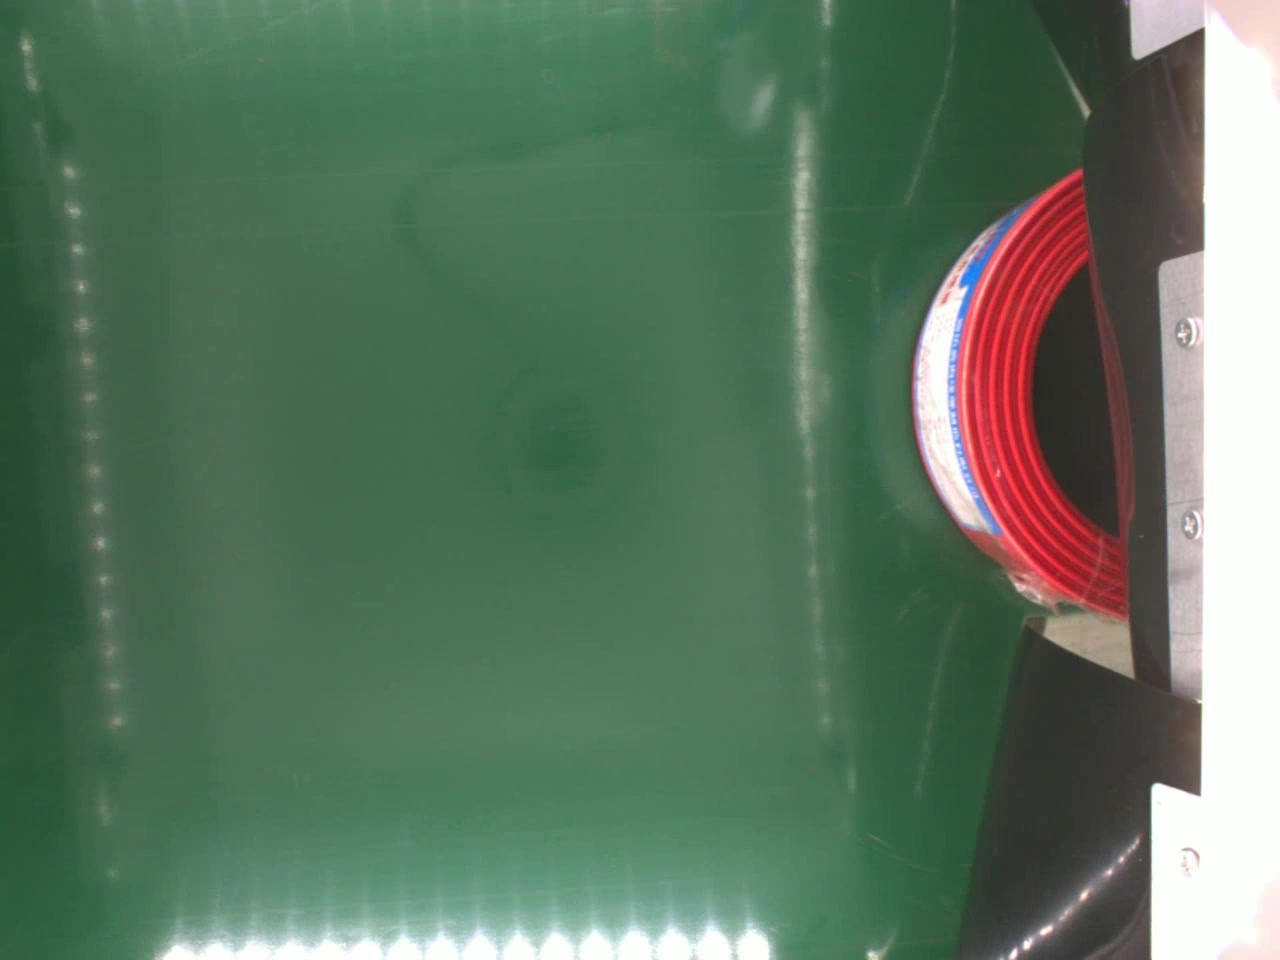red: (908, 164, 1128, 626)
